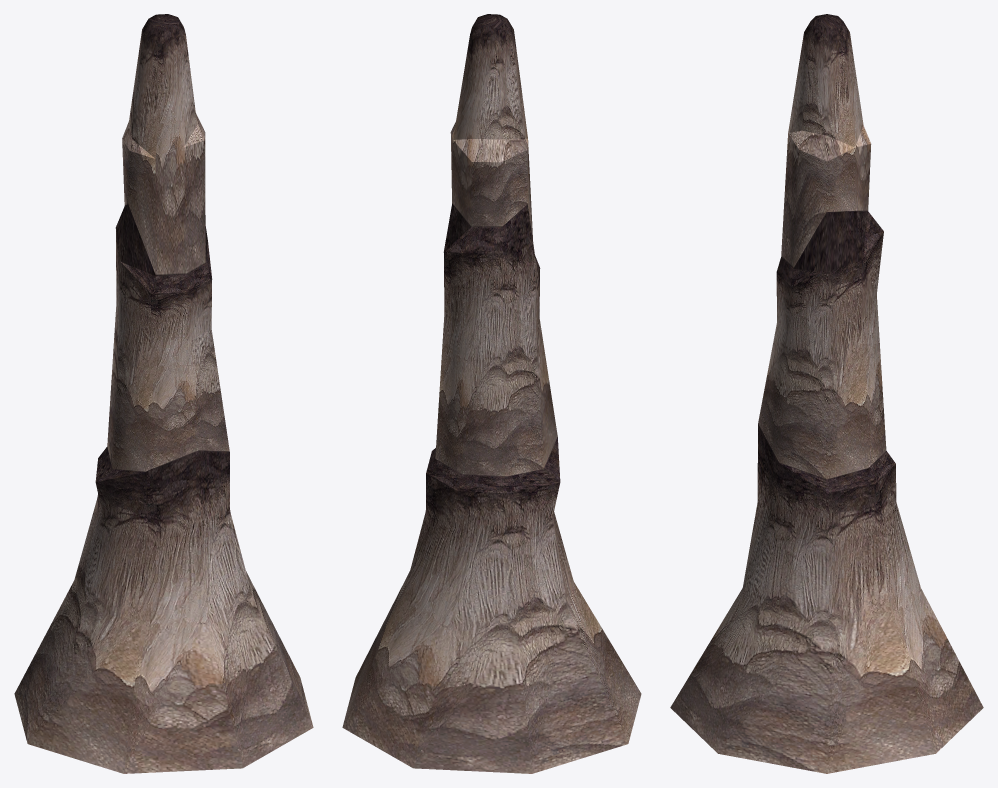
File: stalagmite_large1.fbx
3 views of the same model, side by side, from view 1: azimuth 30°, elevation 25°; view 2: azimuth 150°, elevation 25°; view 3: azimuth 270°, elevation 25° (orthographic).
Parts seen in each view (by area): view 1: mesh_0; view 2: mesh_0; view 3: mesh_0.
Boxes of the visible parts, bbox=[...] form: mesh_0: bbox=[14, 14, 313, 773]; mesh_0: bbox=[342, 14, 641, 773]; mesh_0: bbox=[670, 14, 983, 773].
Size of the model in its own units: 123 by 300 by 123.
1 material, 1 textured.
